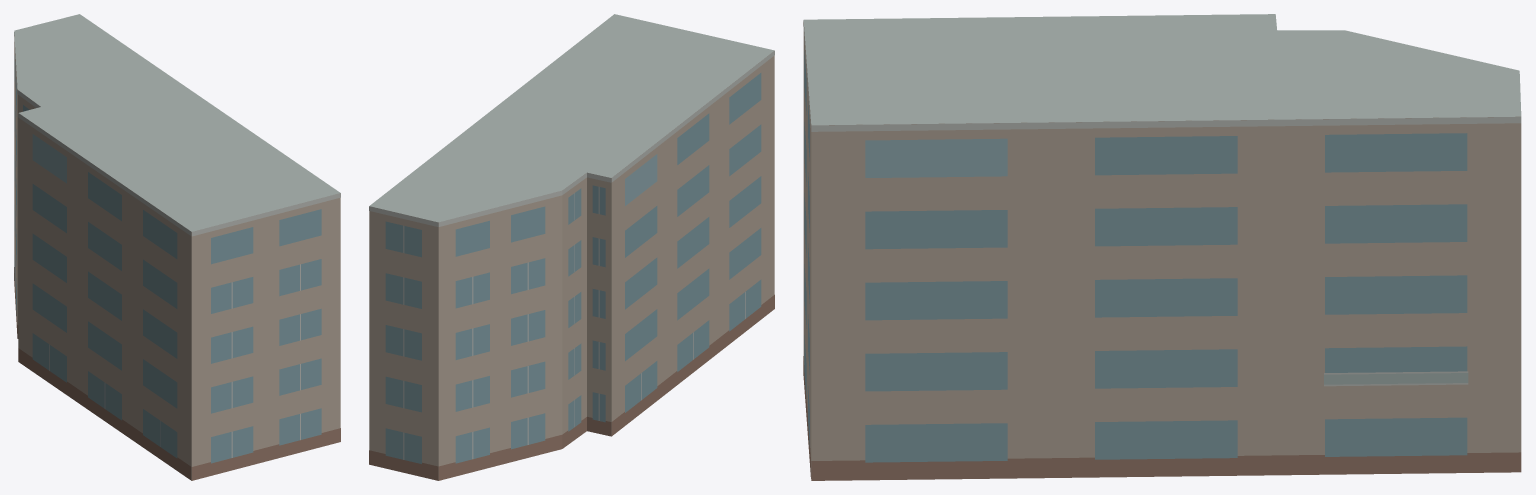
The model's file is survey-upis-32733174.glb.
3 views of the same model, side by side, from view 1: azimuth 30°, elevation 25°; view 2: azimuth 150°, elevation 25°; view 3: azimuth 270°, elevation 25° (orthographic). The views are drawn at different scales.
Parts seen in each view (by area): view 1: survey-upis-32733174.tmp; view 2: survey-upis-32733174.tmp; view 3: survey-upis-32733174.tmp.
Boxes of the visible parts, <box> form: survey-upis-32733174.tmp: <box>14,14,340,480</box>; survey-upis-32733174.tmp: <box>369,14,774,480</box>; survey-upis-32733174.tmp: <box>803,14,1521,480</box>.
Bounding box in the file's own units: 8.87 × 13.2 × 24.16.
